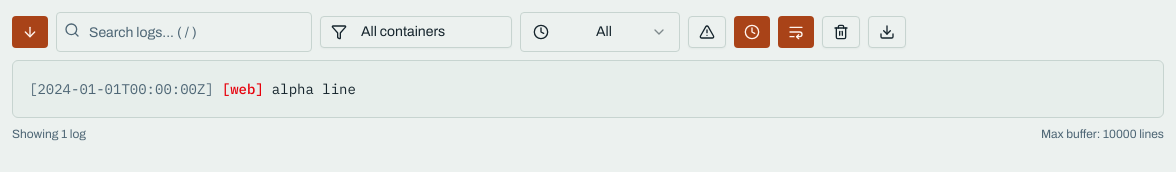
Test: LogViewer › toggles timestamp visibility and hides the timestamp bracket when off
Expected: the text "[2024-01-01T00:00:00Z]" is shown, [29,79,214,99]
Click the button titled "Timestamps shown" at (752, 32), box [734,16,770,48]
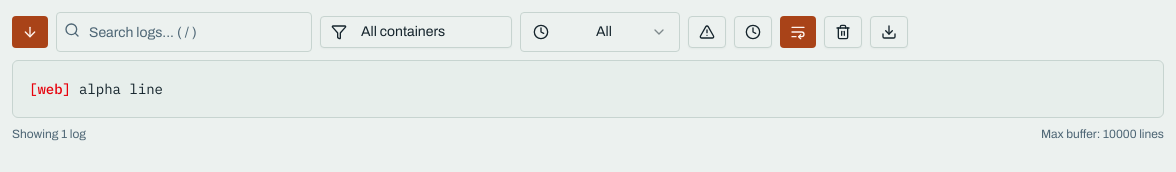
Expected: the text "alpha line" is shown, [79,80,163,98]
Expected: the text "[2024-01-01T00:00:00Z]" is gone
